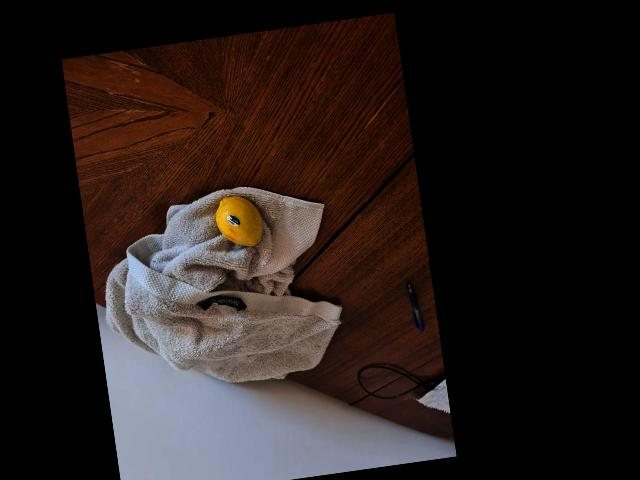lemon: (211, 189, 265, 249)
